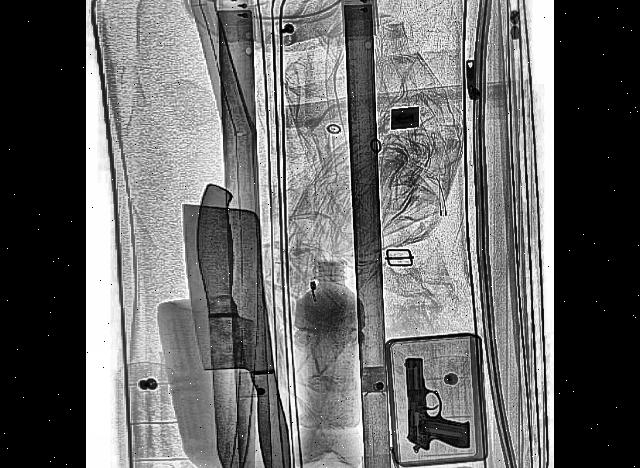Gun: (402, 347, 472, 459)
Knife: (171, 179, 307, 468), (191, 174, 268, 468)
